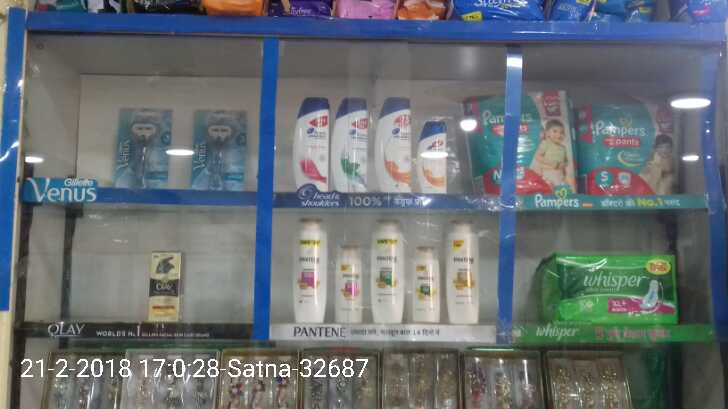venus: (190, 110, 246, 188), (118, 110, 169, 186)
